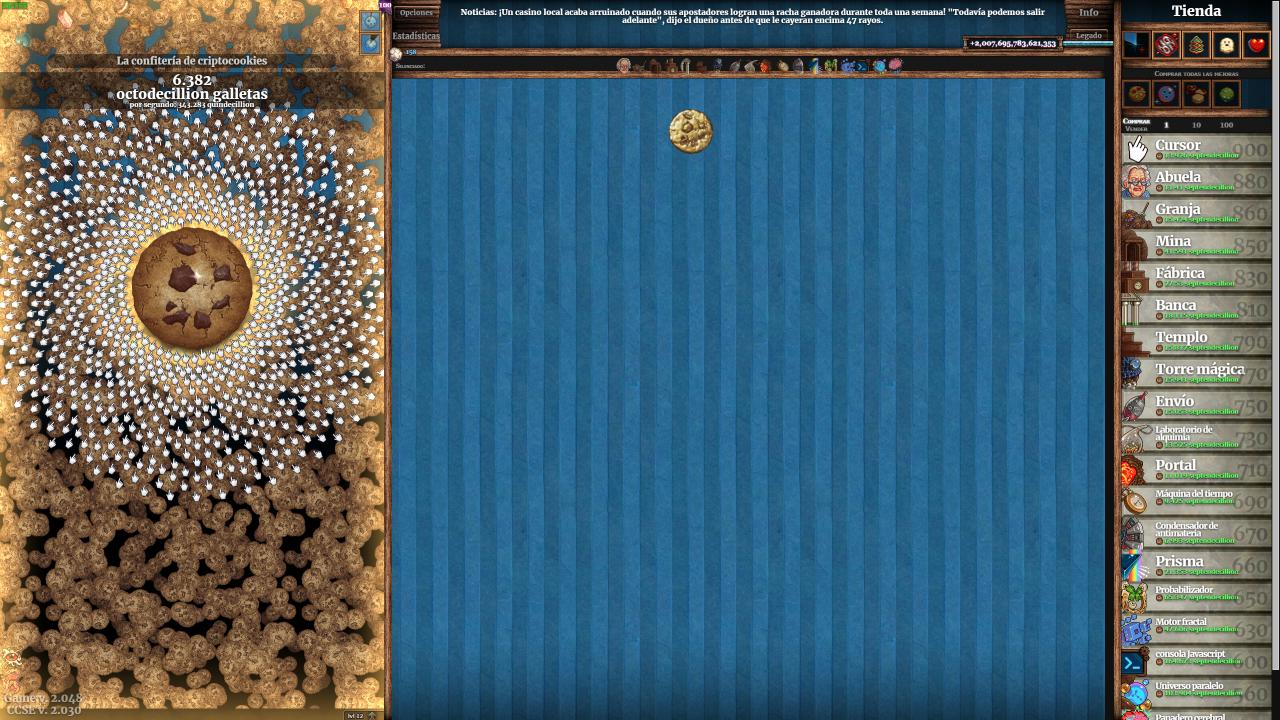GoldenCookie: (667, 107, 716, 157)
